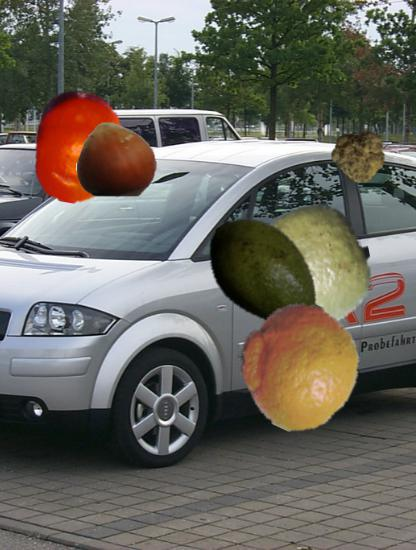Avocado: (199, 210, 328, 339)
Cauliflower: (332, 126, 387, 181)
Clementine: (20, 85, 139, 204)
Limes: (240, 202, 372, 334)
Mandarine: (235, 303, 362, 430)
Nut: (76, 119, 157, 200)
